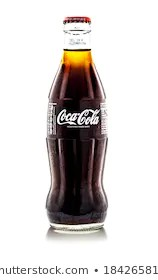coke-glass-bottle: (42, 14, 112, 233)
